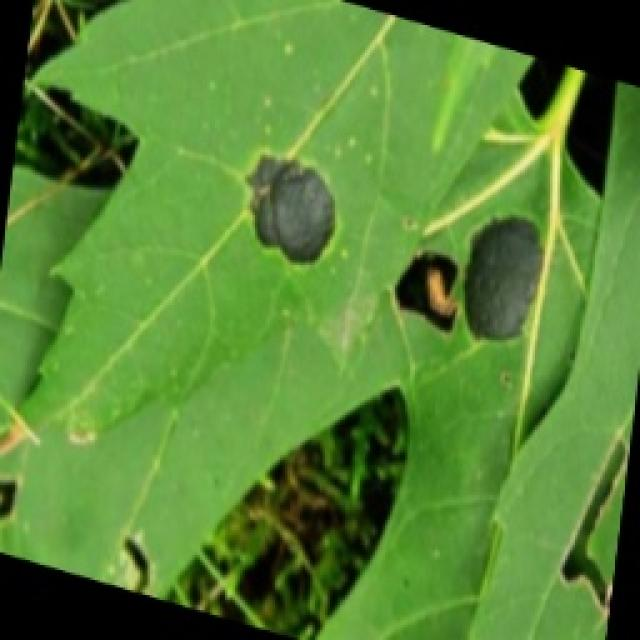Tar_Spot: (178, 132, 608, 399), (0, 475, 18, 525)
